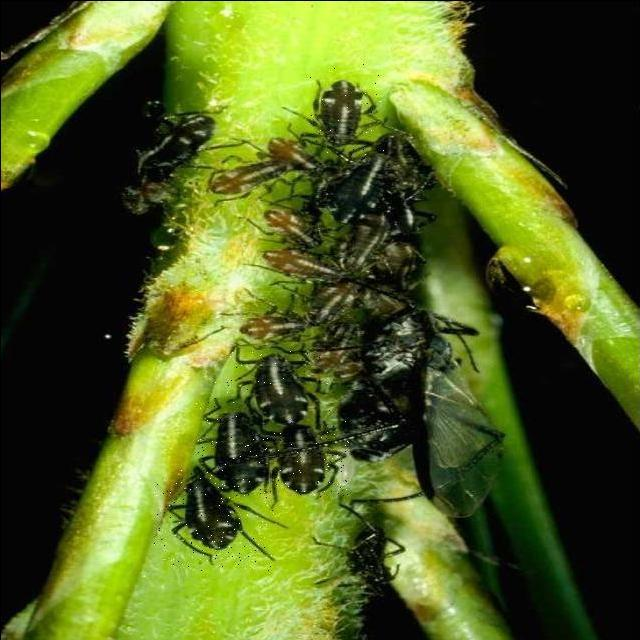aphid: (154, 467, 274, 570), (211, 348, 334, 423), (194, 397, 268, 504), (308, 62, 384, 154), (270, 418, 348, 497)
